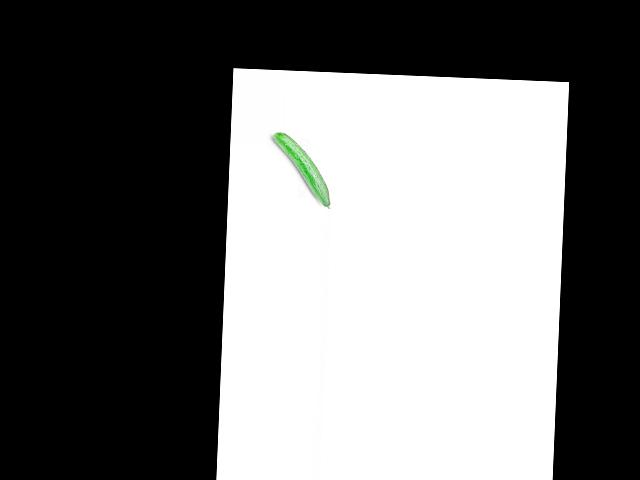cucumber: (269, 132, 333, 209)
